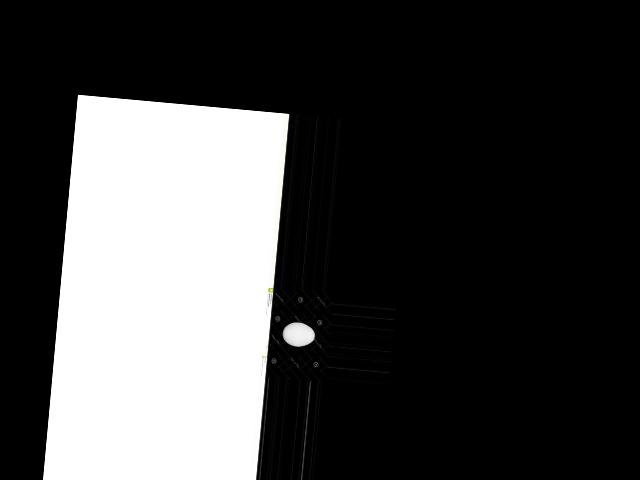egg: (281, 321, 315, 348)
